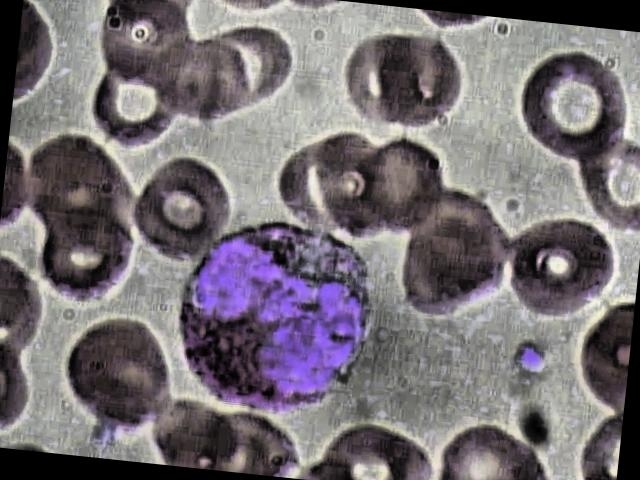Platelets: (512, 337, 548, 381)
RBC: (53, 309, 181, 441), (496, 204, 622, 330), (516, 46, 634, 174), (367, 26, 477, 140), (126, 153, 236, 266), (349, 134, 457, 244), (332, 22, 428, 136), (89, 0, 199, 99), (153, 38, 253, 128), (564, 133, 640, 236), (437, 417, 558, 480)
WBC: (165, 202, 382, 425)
